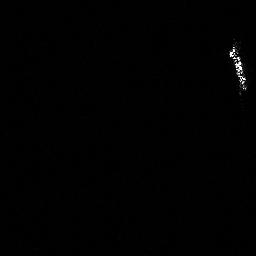ship: (228, 42, 247, 95)
